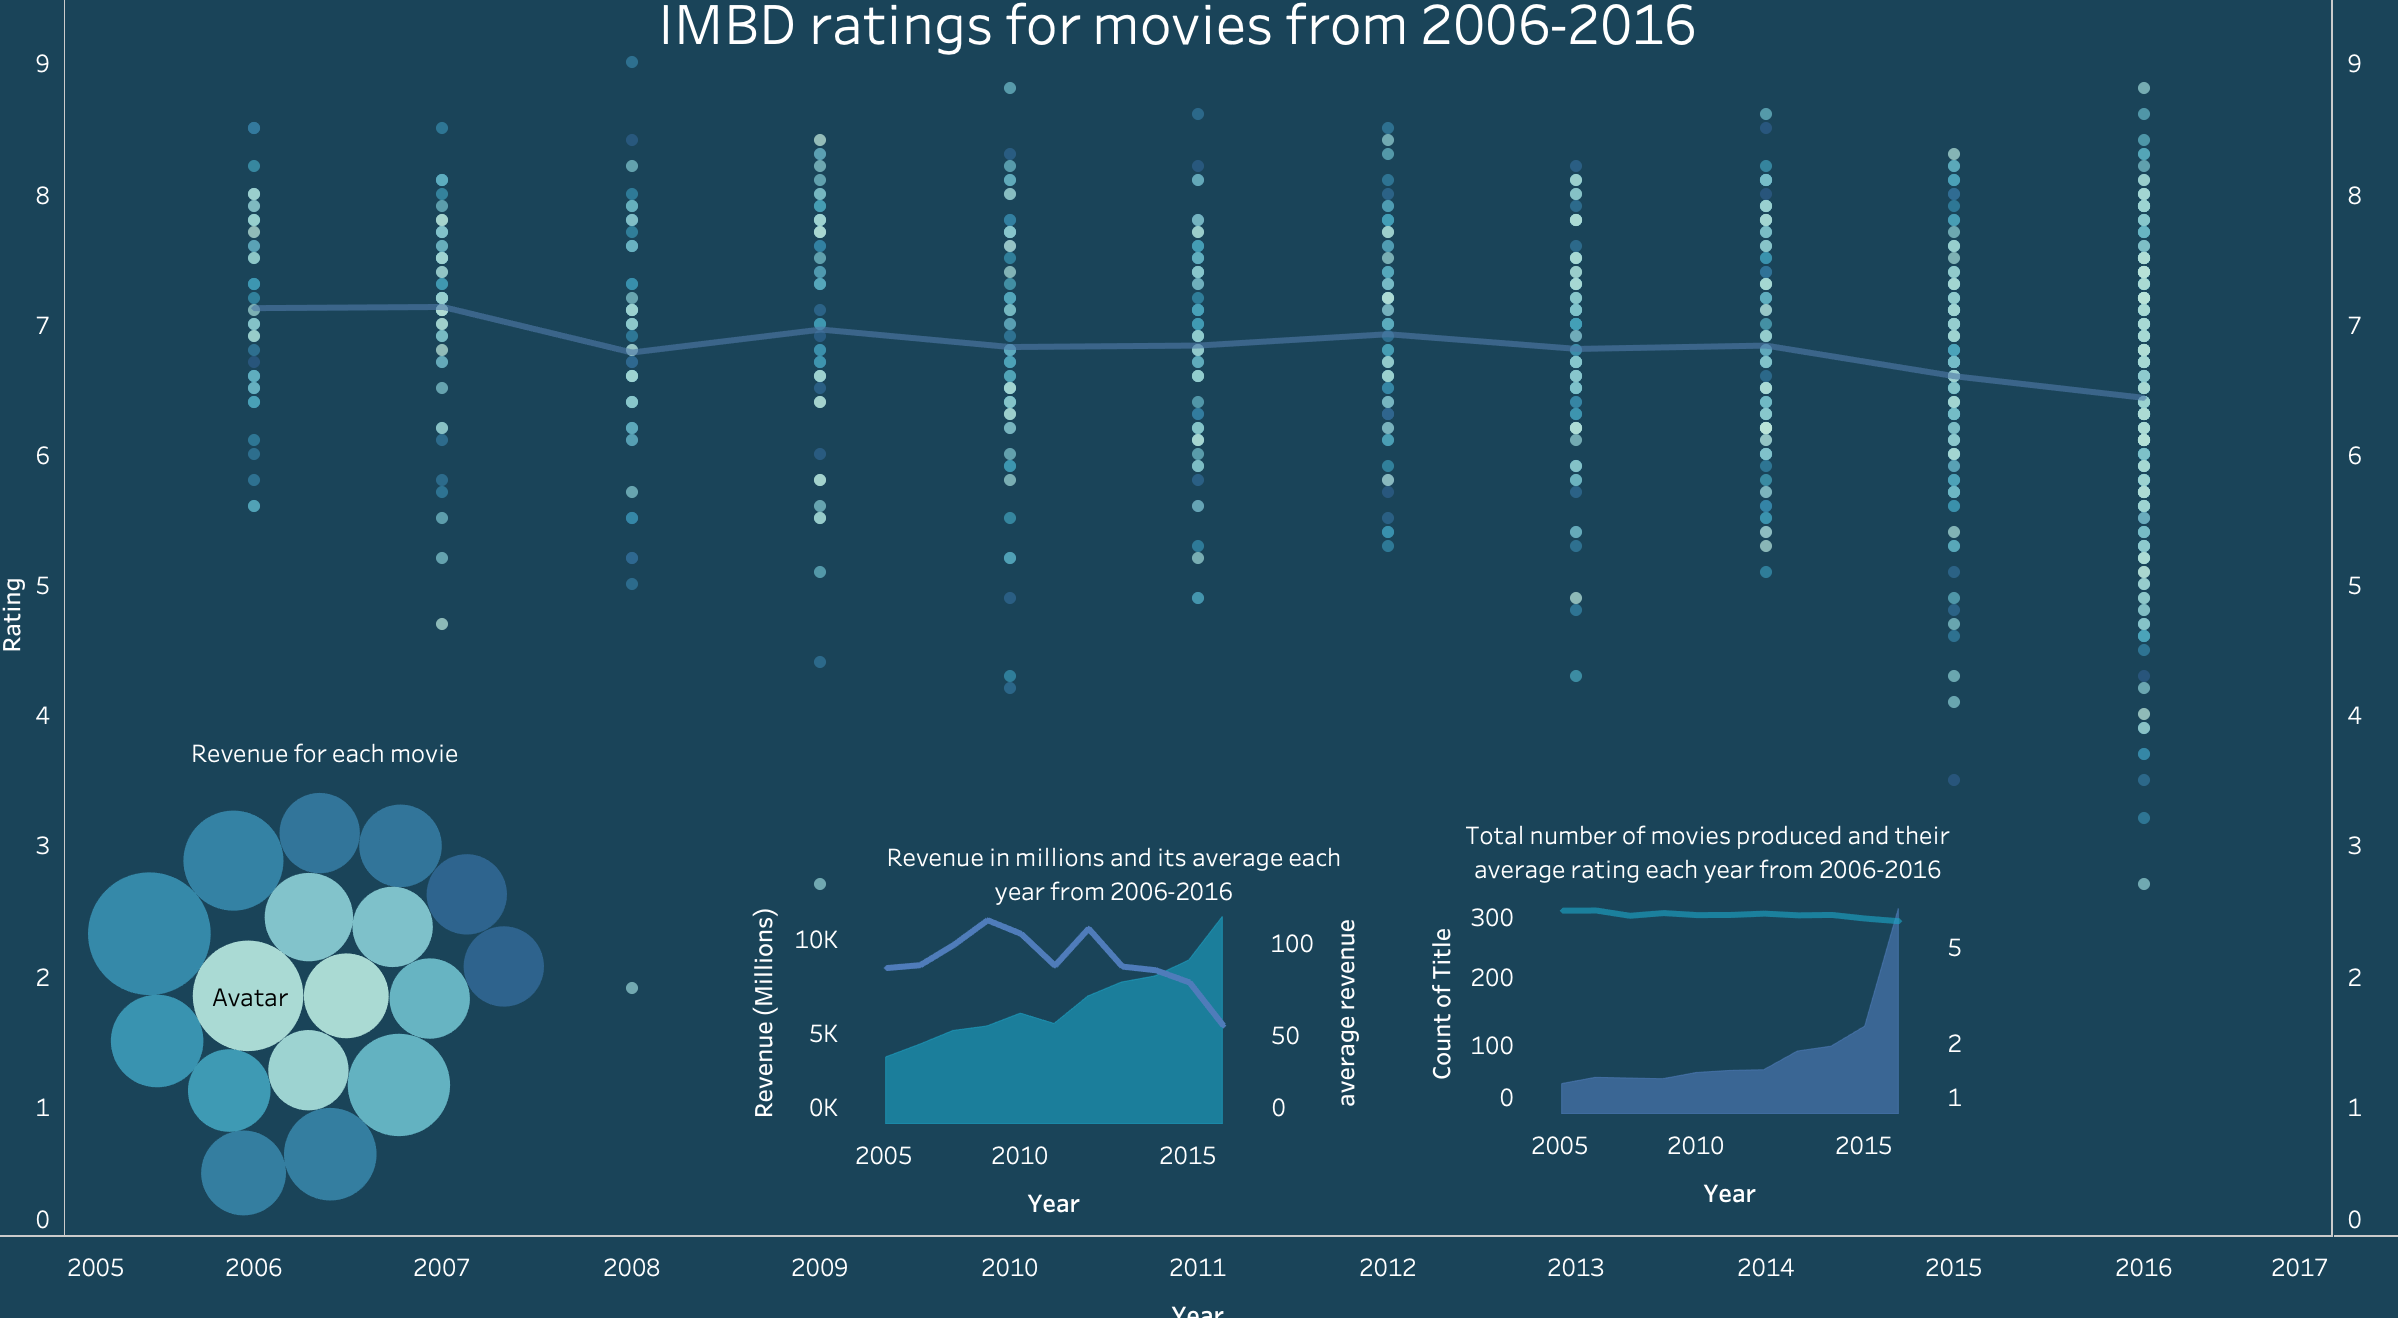

The page's visual inventory and layout, read from the dashboard file:
{"tool":"tableau","page":{"name":"Dashboard 1","canvas":[1000,1000],"units":"permille","ordinal":0},"visuals":[{"type":"worksheet","box":[0,0,1000,1000]},{"type":"worksheet","box":[277.5,0,455.8,109.1]},{"type":"worksheet","param":"horz","box":[6.7,11.2,986.7,977.6]},{"type":"worksheet","param":"horz","box":[6.7,11.2,986.7,977.6]},{"type":"worksheet","box":[6.7,11.2,986.7,977.6]},{"type":"worksheet","title":"Sheet 2","mark":"Circle","rows":["Rating","Calculation_134545100215783425"],"cols":["Year"],"box":[6.7,11.2,986.7,977.6]},{"type":"worksheet","box":[87.5,545.5,115.8,42]},{"type":"worksheet","title":"Sheet 5","mark":"Circle","box":[48.3,562.2,217.5,339.9]},{"type":"worksheet","box":[593.3,612.6,227.5,47.6]},{"type":"worksheet","box":[364.2,628,201.7,47.6]},{"type":"worksheet","title":"Sheet 3","mark":"Area","rows":["Title","Rating"],"cols":["Year"],"box":[585.8,647.6,260,249]},{"type":"worksheet","title":"Sheet 4","mark":"Area","rows":["Revenue (Millions)","Calculation_134545100259926018"],"cols":["Year"],"box":[310,653.1,261.7,250.3]}]}

Visuals, with their boxes on the dashboard's canvas, which has no fixed pixel size, in thousandths of its width and height (x1, y1, x2, y2). These are canvas units, not pixel positions in the 2398x1318 screenshot, which may show the page scaled, cropped or inside an application window:
worksheet: (0,0,1000,1000)
worksheet: (278,0,733,109)
worksheet: (7,11,993,989)
worksheet: (7,11,993,989)
worksheet: (7,11,993,989)
"Sheet 2" worksheet (Circle marks): (7,11,993,989)
worksheet: (88,546,203,588)
"Sheet 5" worksheet (Circle marks): (48,562,266,902)
worksheet: (593,613,821,660)
worksheet: (364,628,566,676)
"Sheet 3" worksheet (Area marks): (586,648,846,897)
"Sheet 4" worksheet (Area marks): (310,653,572,903)
